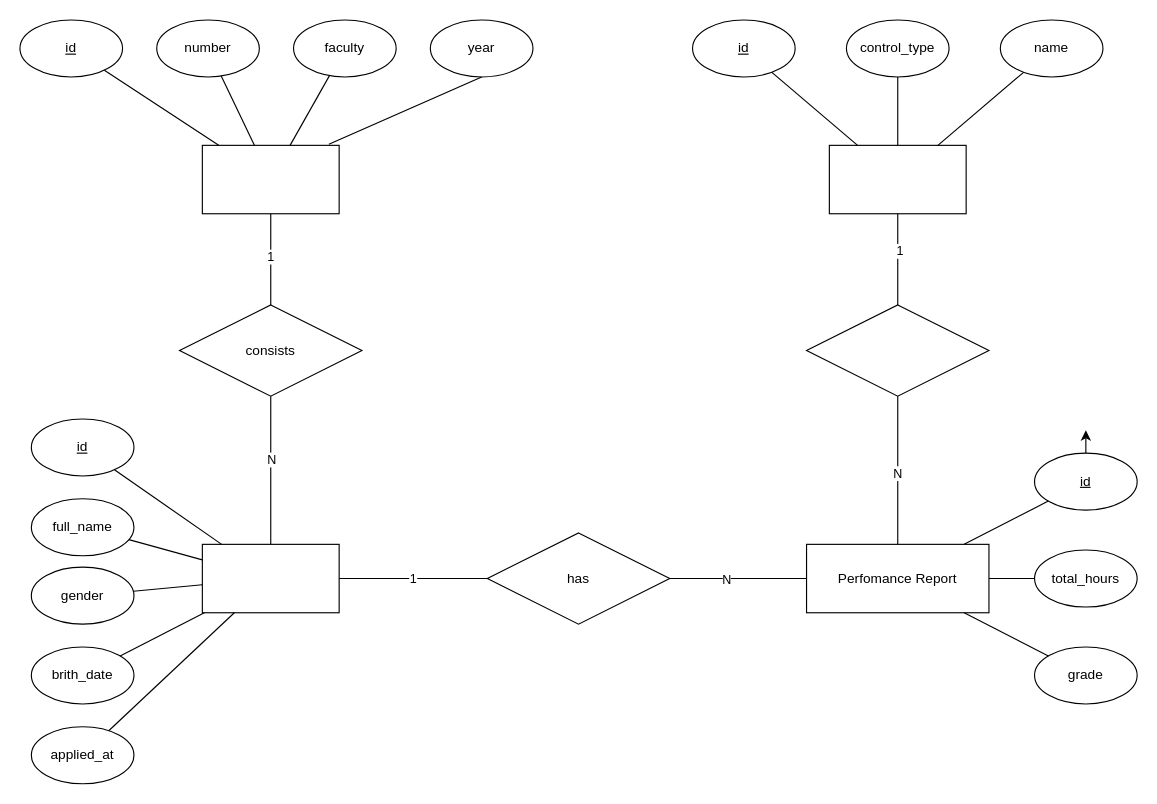
Some shapes in this 1157 by 804 pixel diagram are drawn without their labels. Here are the shapes that lost their labels. From the top down, the centre of each, then its label:
At (x=270, y=179): "Group".
At (x=897, y=179): "Disciplines".
At (x=897, y=350): "in".
At (x=270, y=578): "Student".
